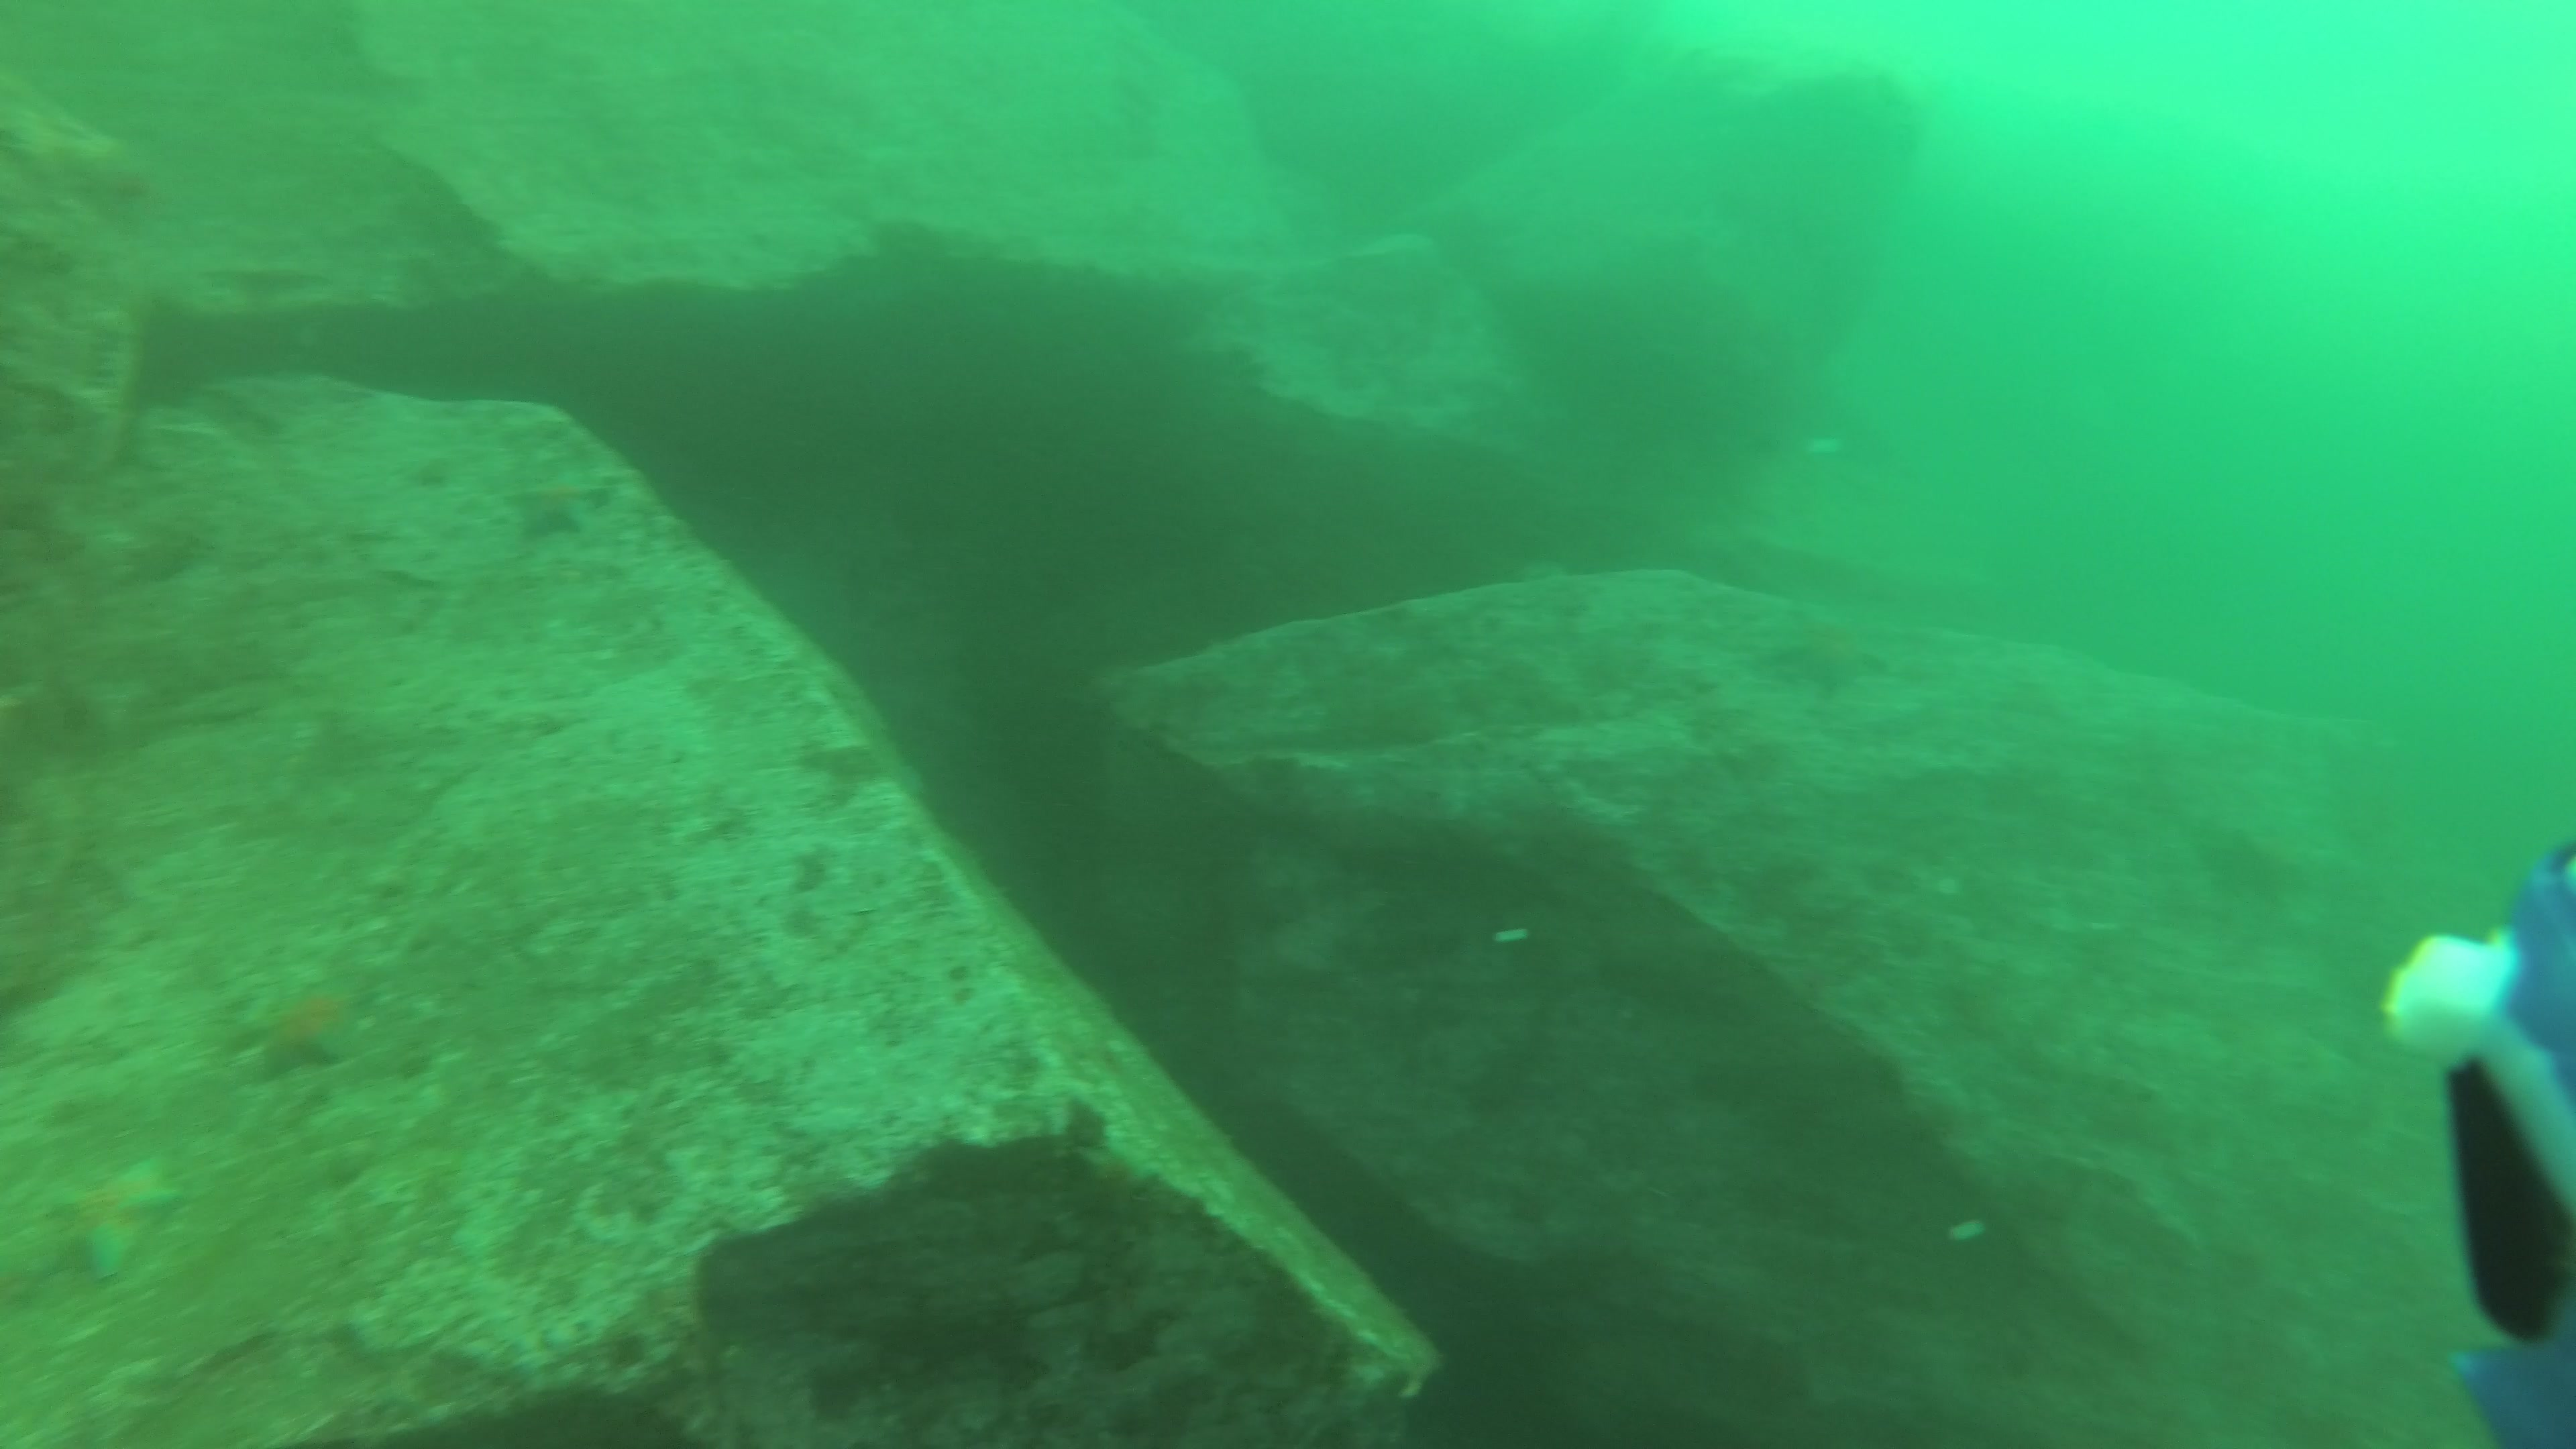starfish: (37, 1150, 179, 1284), (239, 966, 375, 1097), (1767, 600, 1897, 701), (508, 460, 621, 550)
